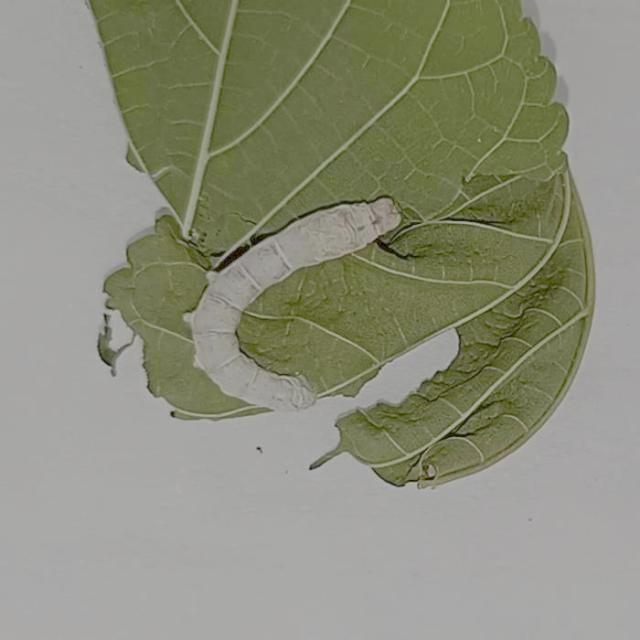Healthy: (165, 169, 428, 460)
